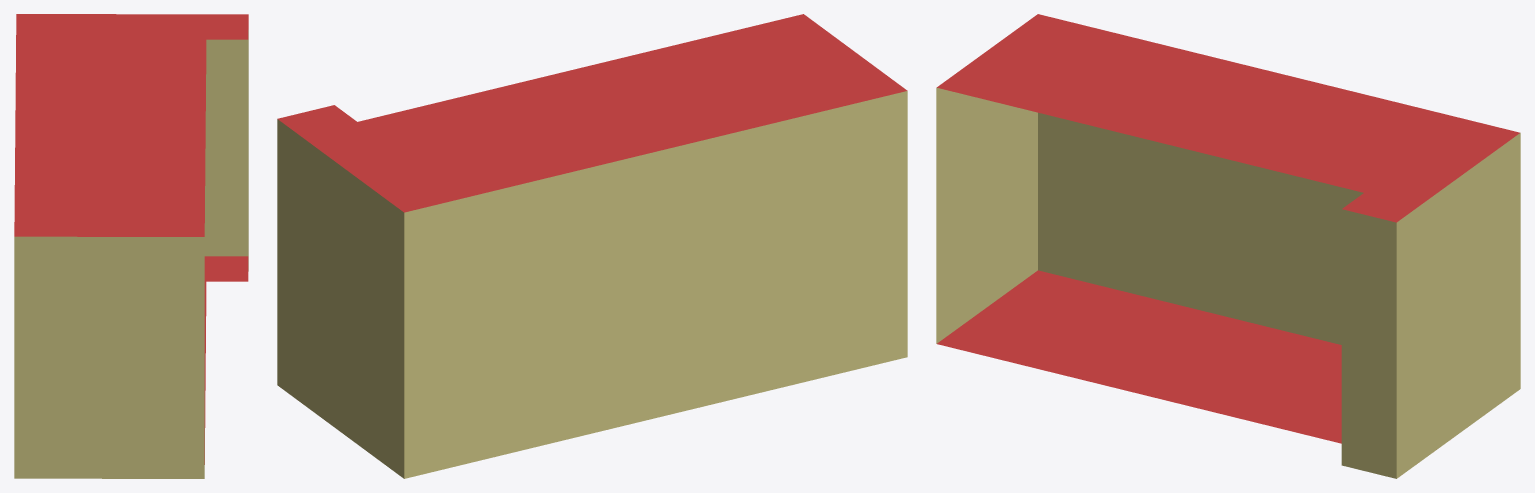
The picture shows the model from 3 angles, left to right: view 1: azimuth 30°, elevation 25°; view 2: azimuth 150°, elevation 25°; view 3: azimuth 270°, elevation 25°; orthographic projection. The views are drawn at different scales.
Parts seen in each view (by area): view 1: group_4, group_3, group_5; view 2: group_4, group_3; view 3: group_4, group_3, group_5.
Boxes of the visible parts, <box> form: group_4: <box>14,30,248,478</box>; group_3: <box>14,14,248,236</box>; group_5: <box>204,256,248,464</box>; group_4: <box>277,91,907,478</box>; group_3: <box>277,14,907,212</box>; group_4: <box>936,87,1520,478</box>; group_3: <box>937,14,1519,222</box>; group_5: <box>937,270,1341,443</box>.
Size of the model in its own units: 12.72 by 15.04 by 7.29.
